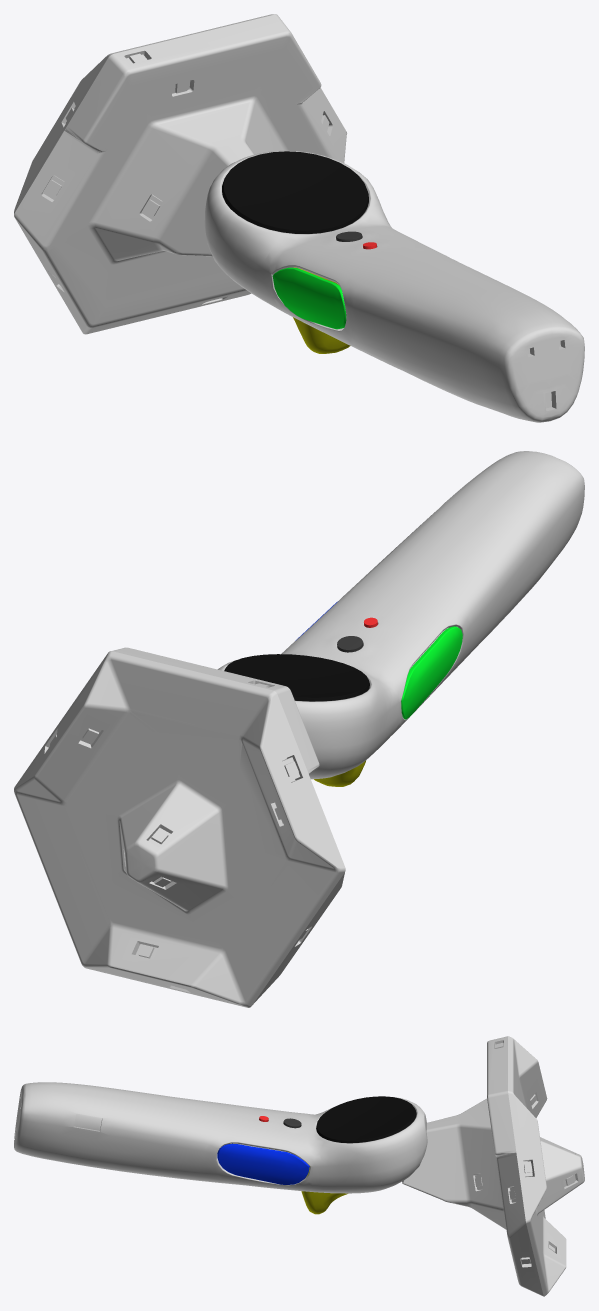
The model's file is ViveController.FBX.
3 renders of one model, top to bottom at view 1: azimuth 30°, elevation 25°; view 2: azimuth 150°, elevation 25°; view 3: azimuth 270°, elevation 25°, orthographic. The views are drawn at different scales.
Visible parts, largest first — view 1: polySurface10; view 2: polySurface10; view 3: polySurface10.
Boxes of the visible parts, bbox=[...] form: polySurface10: bbox=[14, 14, 584, 422]; polySurface10: bbox=[14, 451, 584, 1007]; polySurface10: bbox=[14, 1036, 584, 1296].
Size of the model in its own units: 4.27 by 9.22 by 3.67.
